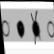correct: (14, 18, 26, 41)
not correct: (28, 8, 42, 46)
